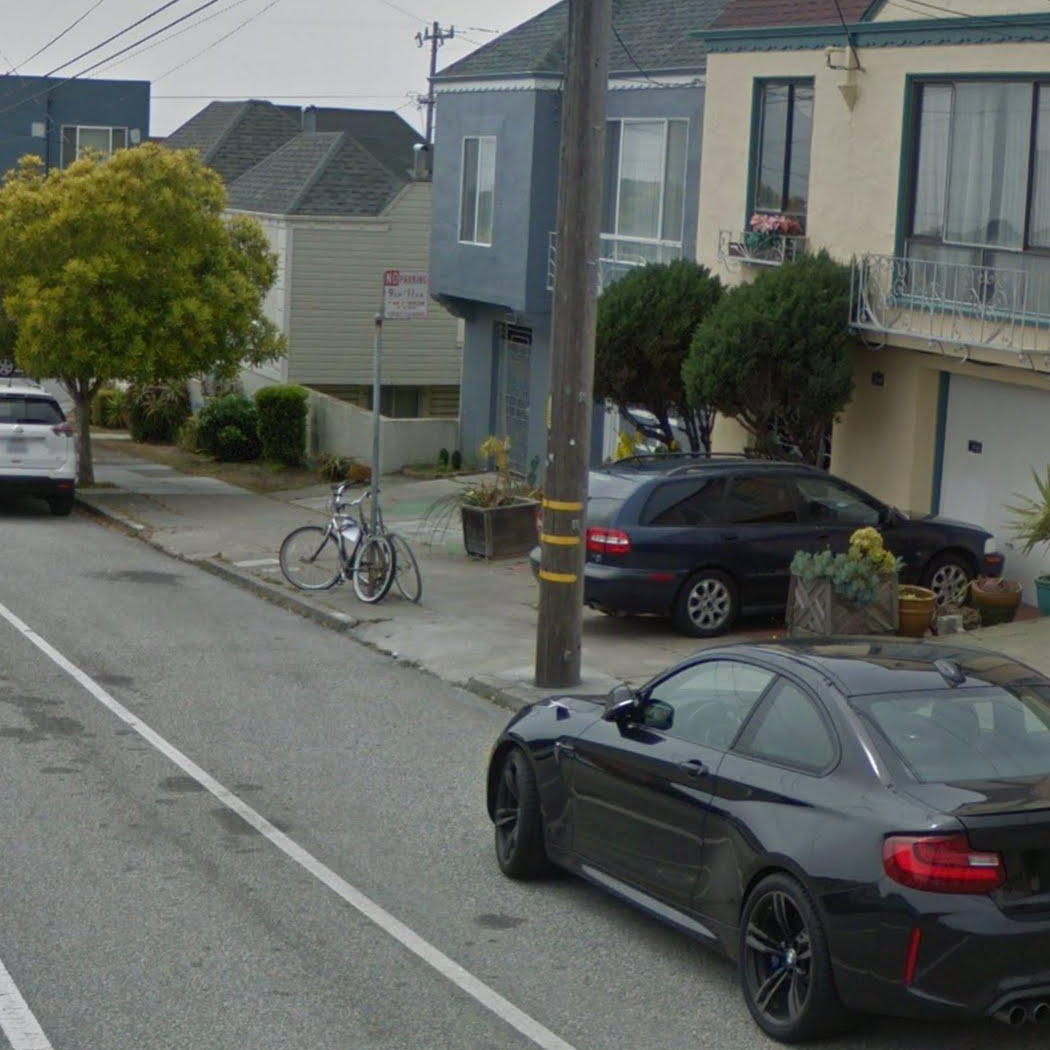No Parking: (383, 269, 430, 321)
